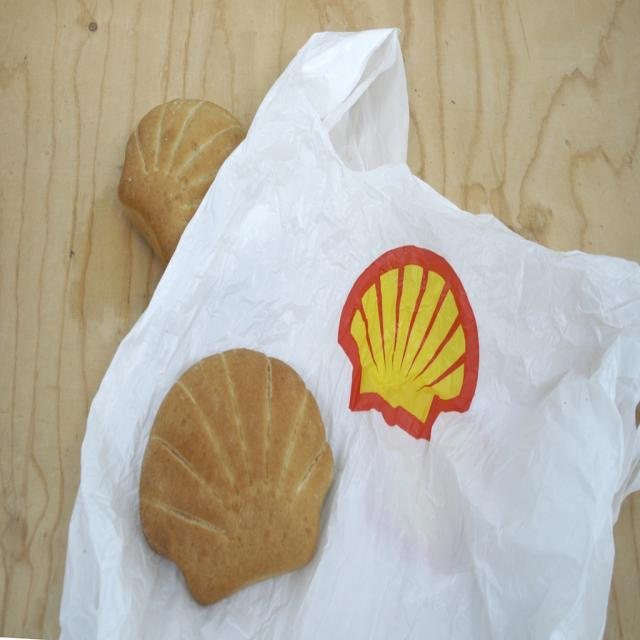shell: (337, 242, 482, 443)
